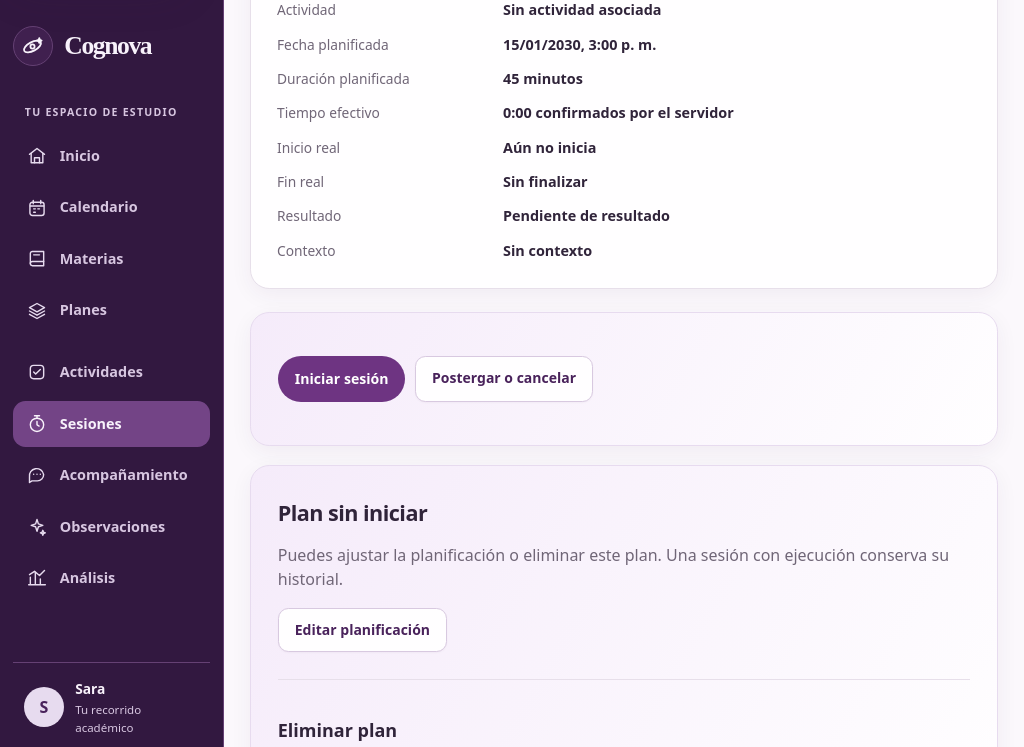
Test case: study session detail and timer lifecycle › finishes executed work as completed and records a predefined context
The width and height of the screenshot is (1024, 747).
(page scrolled)
Click the button "Iniciar sesión" at point(342, 379), box [278,356,406,402]
(page scrolled)
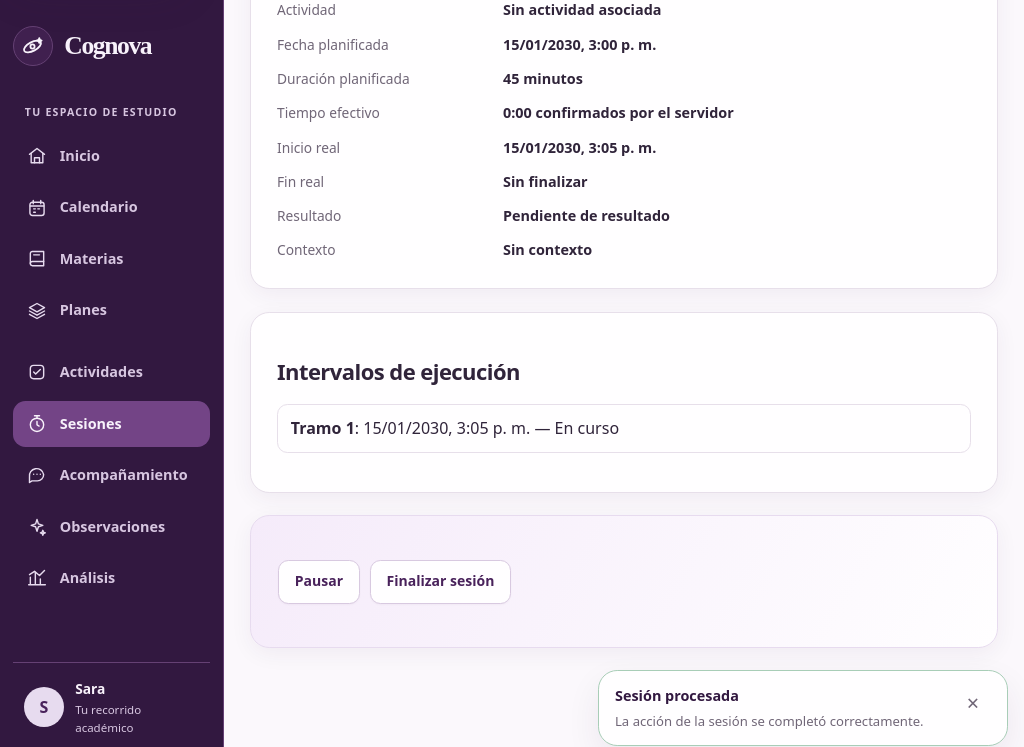
Click the button "Finalizar sesión" at point(440, 582), box [370,560,511,604]
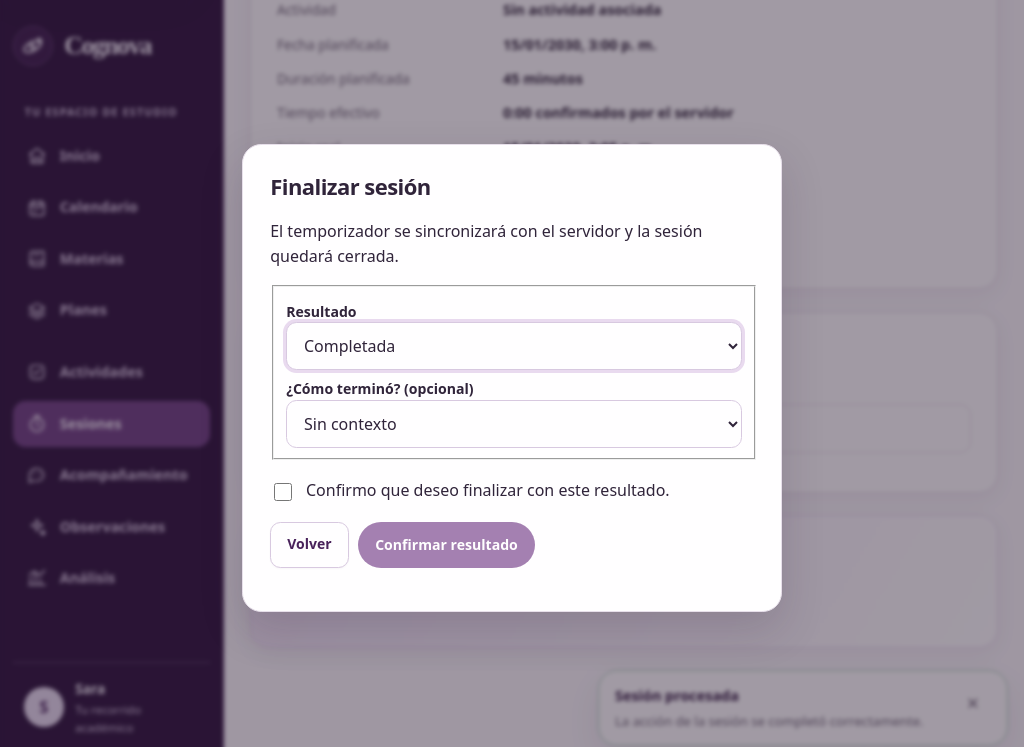
Select "Terminé antes" in the dropdown labelled "¿Cómo terminó? (opcional)" at point(514, 424), box [286,400,742,448]
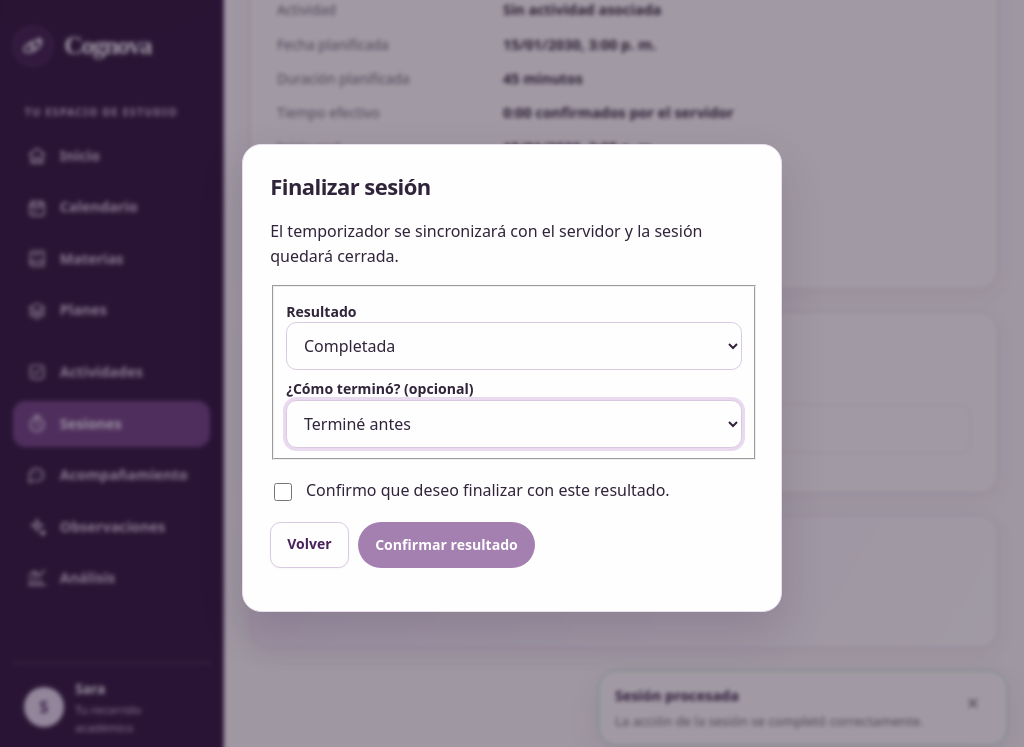
Click the checkbox labelled "Confirmo que deseo finalizar con este resultado." at point(283, 492), box [274,483,292,501]
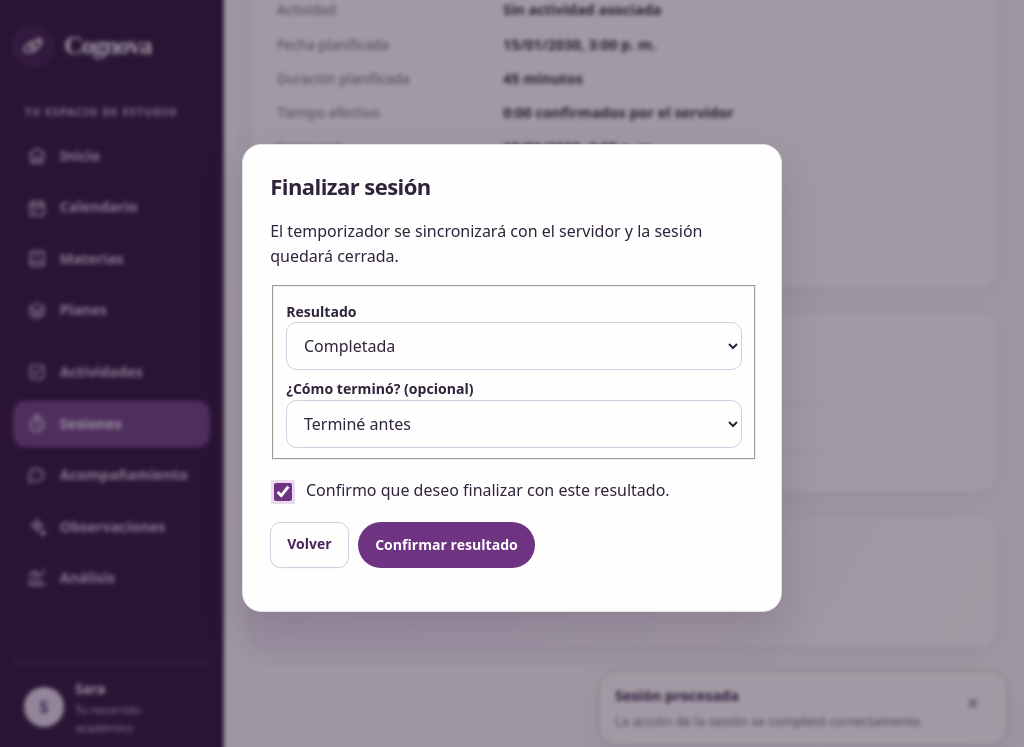
Click the button "Confirmar resultado" at point(446, 544), box [358,522,535,568]
(page scrolled)
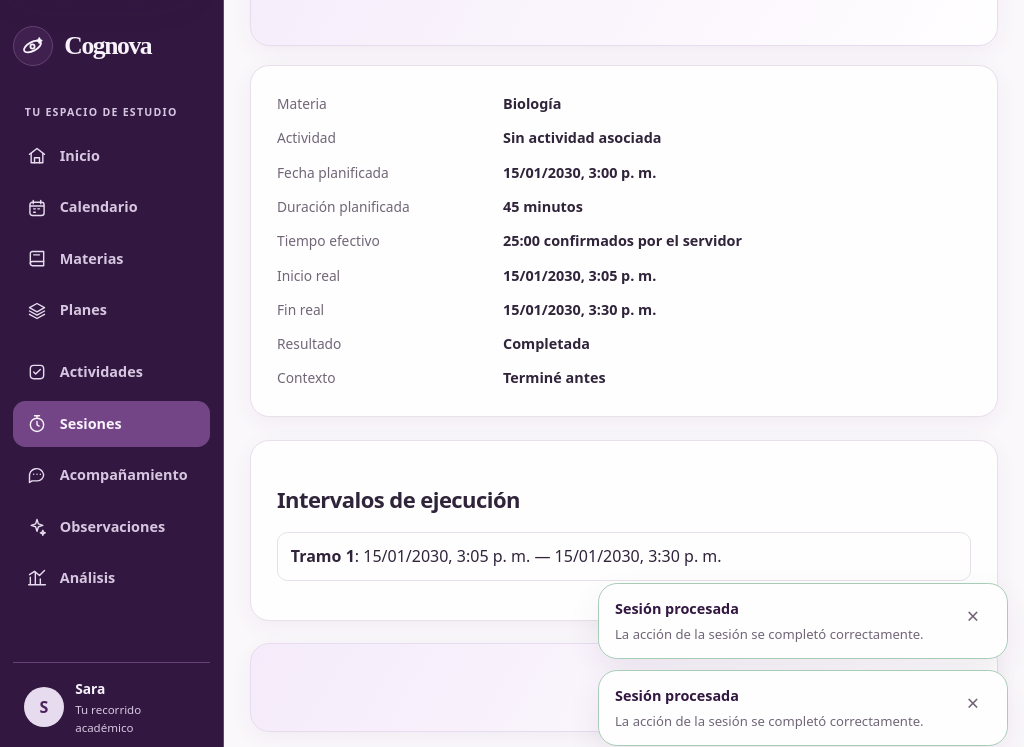
Check: the text "Completada" is shown, box [503,334,590,353]
Check: the text "Terminé antes" is shown, box [503,368,606,388]
